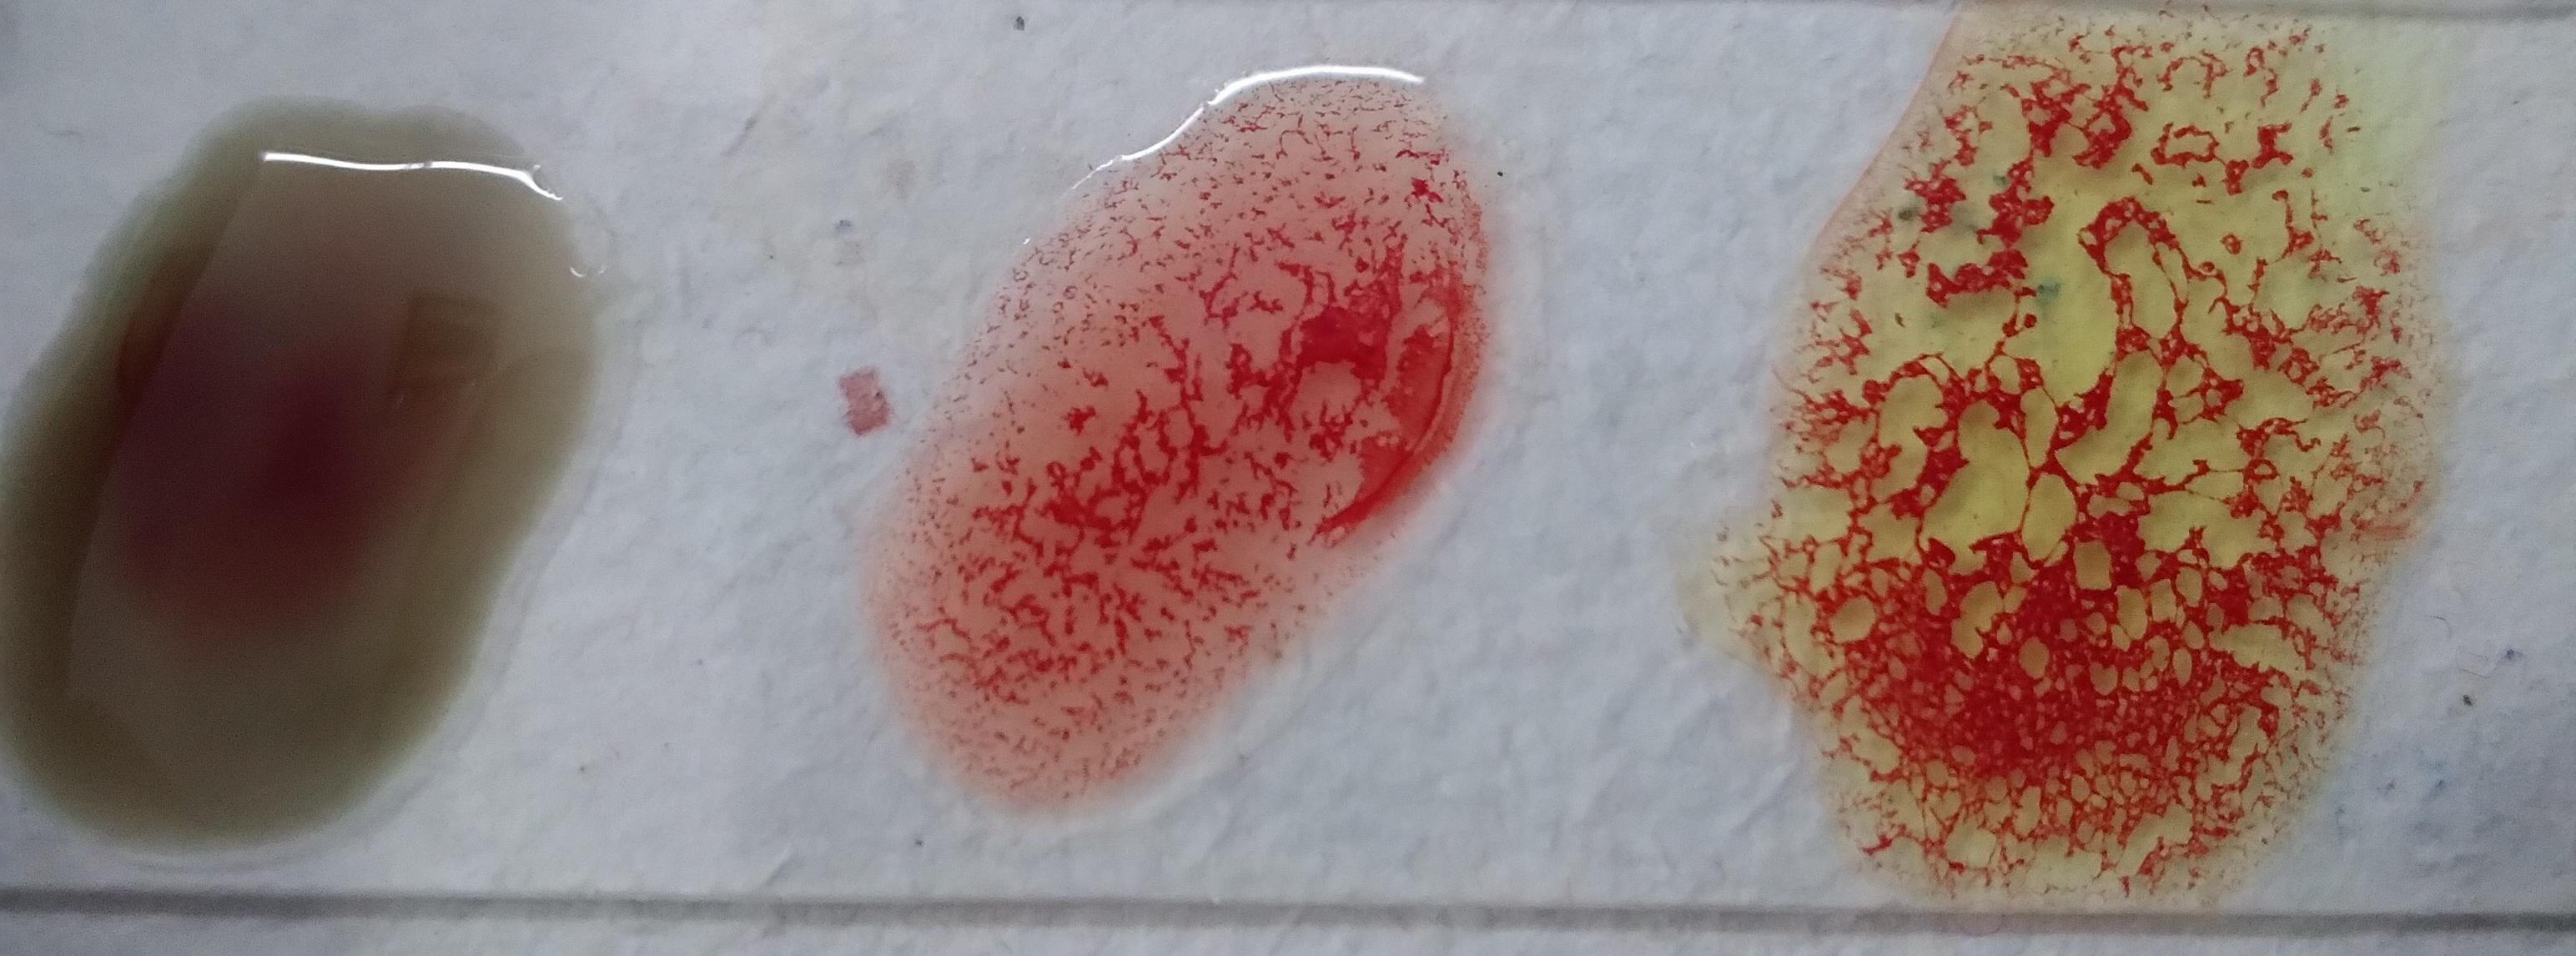B: (177, 49, 820, 956)
D: (1081, 125, 1687, 900)
